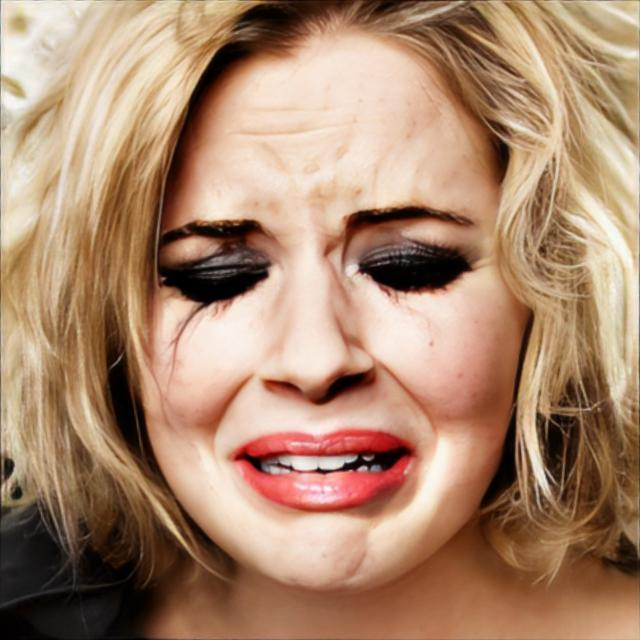sad: (130, 41, 528, 591)
